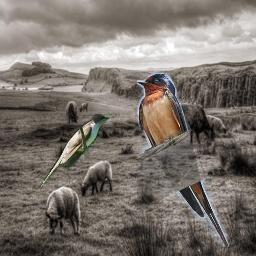Cuckoo: (39, 114, 109, 189)
Swallow: (137, 72, 229, 247)
